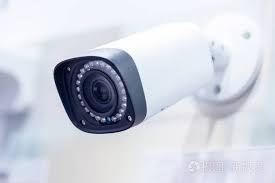tutu: (48, 22, 217, 141)
